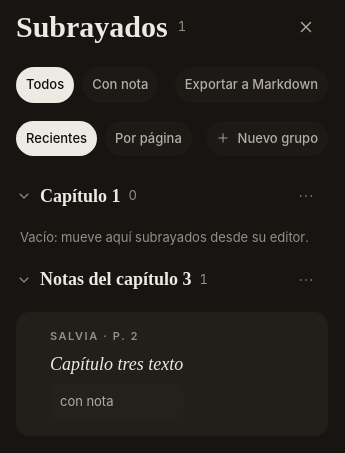
Test: HighlightsPanel groups › drops the empty groups under 'Con nota', where they would be empty sections
The image size is (345, 453).
Step 1. Click the button "Con nota" → (120,85), box top-left (82, 67), bottom-right (158, 102)
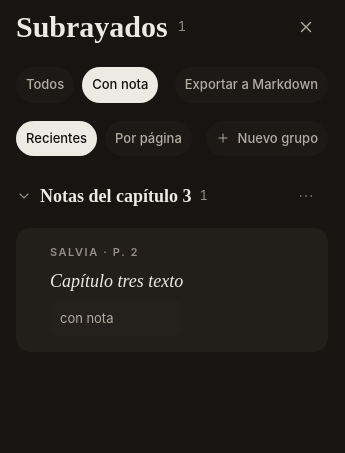
expect the button "Notas del capítulo 3 1" is shown: met, box top-left (16, 179), bottom-right (280, 213)
expect the button "Capítulo 1" is gone: met
